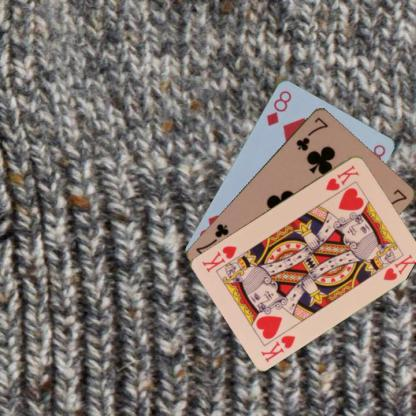7c: (293, 114, 329, 152)
8d: (263, 87, 293, 127)
Kh: (258, 332, 297, 364), (323, 162, 361, 192)
